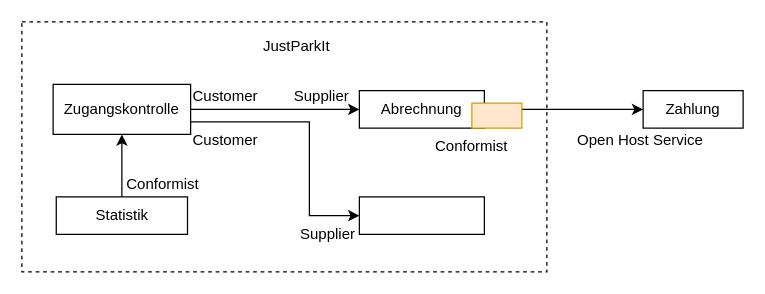
Image size: 765x294. Some labels were removed from this diagram. The shapes that lost their labels are listed below. From the top down, each one's box as (x1, y1, x2, y2) in pixels, then its label:
(471, 102, 522, 128): ACL
(358, 196, 484, 234): Dauerparken
